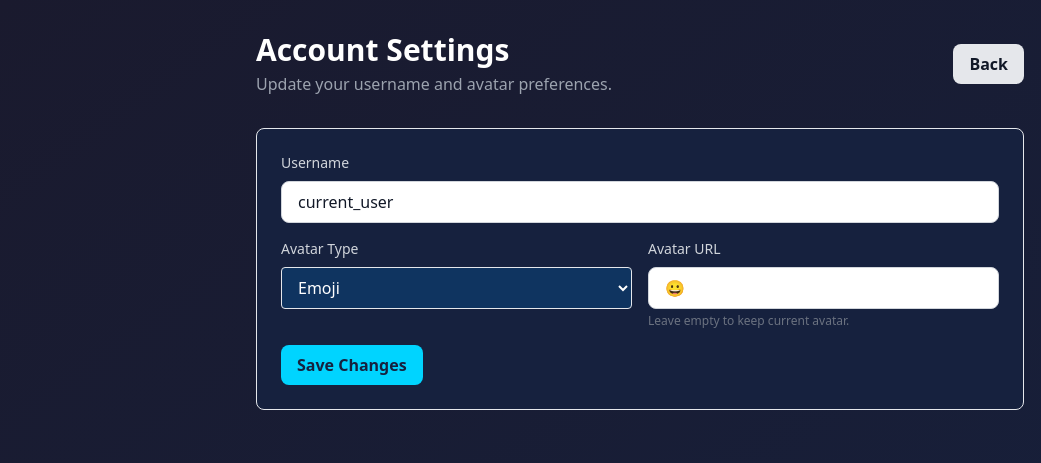
Test: AccountSettingsPage › shows error on conflict
This screenshot has width=1041, height=463.
Replace the text in the field with test id "username-input" with "existing_user". click: (640, 202)
box: [281,181,999,223]
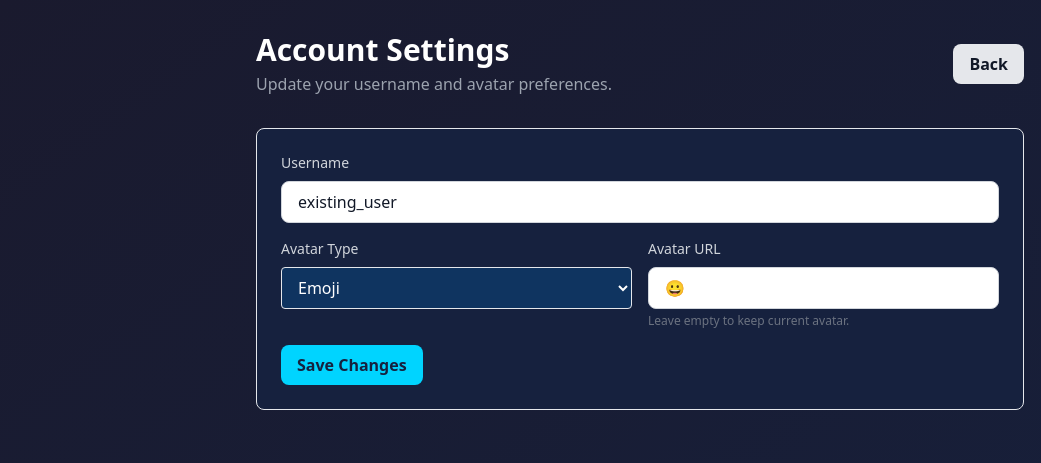
Click the button with test id "save-button". click: (352, 365)
box: [281,345,423,385]
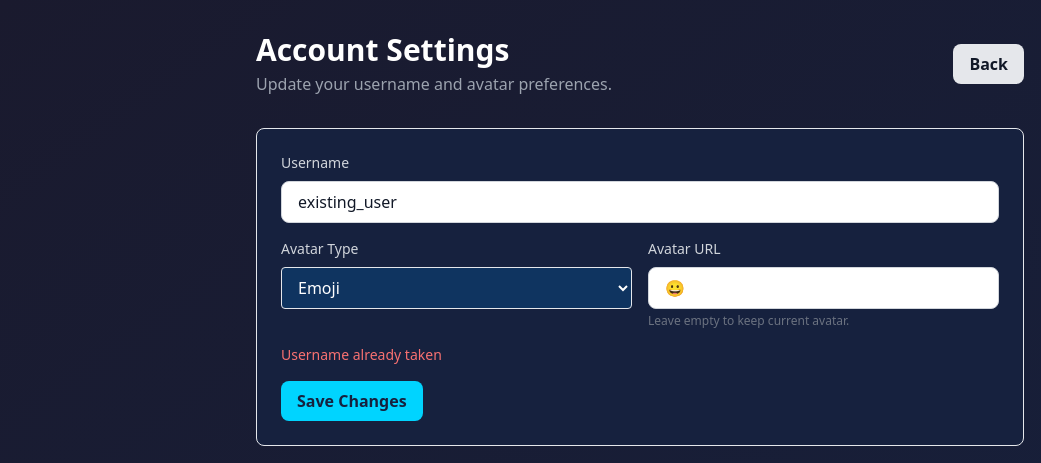
Check: the text with test id "error" reads "Username already taken", box [281,345,442,364]
